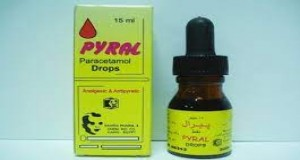Medicine: (71, 3, 152, 158), (163, 14, 237, 159)
